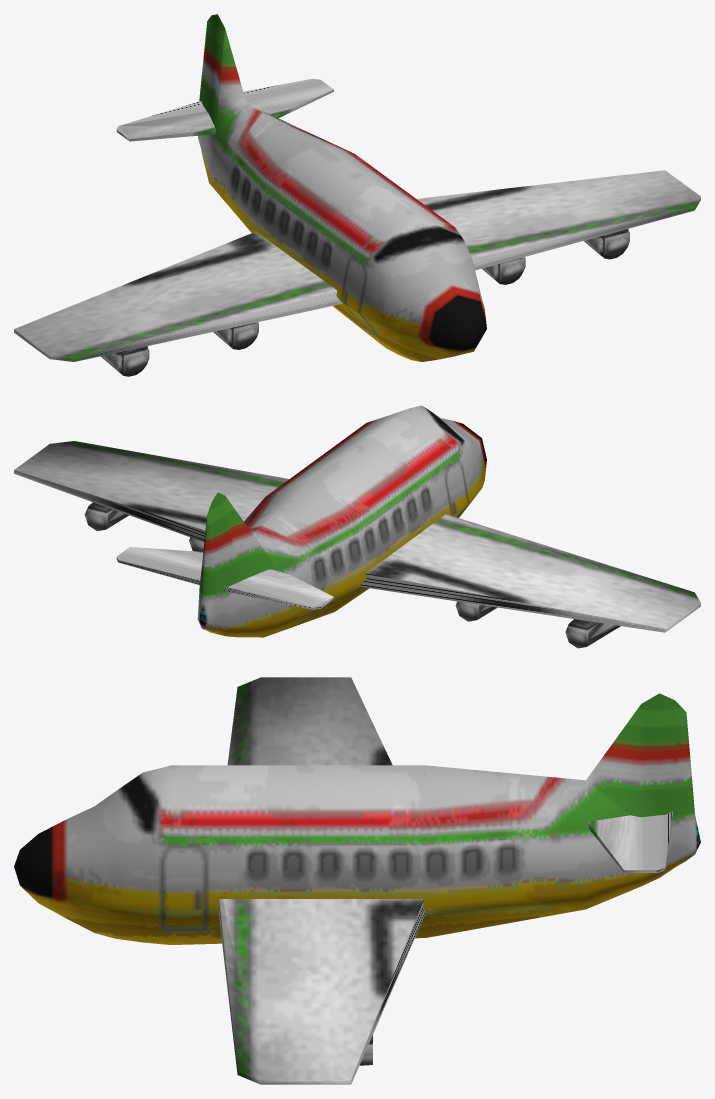
The model's file is airplane.obj.
3 renders of one model, top to bottom at view 1: azimuth 30°, elevation 25°; view 2: azimuth 150°, elevation 25°; view 3: azimuth 270°, elevation 25°, orthographic. The views are drawn at different scales.
Visible parts, largest first — view 1: plane_body, plane_wings, plane_backwing, plane_engine; view 2: plane_body, plane_wings, plane_backwing, plane_engine; view 3: plane_body, plane_wings, plane_backwing.
Boxes of the visible parts, x1=… form: plane_body: x1=198, y1=14, x2=486, y2=361; plane_wings: x1=14, y1=170, x2=700, y2=361; plane_backwing: x1=116, y1=78, x2=333, y2=141; plane_engine: x1=101, y1=229, x2=629, y2=376; plane_body: x1=197, y1=405, x2=486, y2=637; plane_wings: x1=14, y1=441, x2=700, y2=632; plane_backwing: x1=116, y1=547, x2=333, y2=609; plane_engine: x1=84, y1=502, x2=620, y2=648; plane_body: x1=14, y1=693, x2=700, y2=944; plane_wings: x1=218, y1=677, x2=425, y2=1084; plane_backwing: x1=587, y1=811, x2=672, y2=872.
Bounding box in the file's own units: 17.81 × 4.88 × 12.86.
